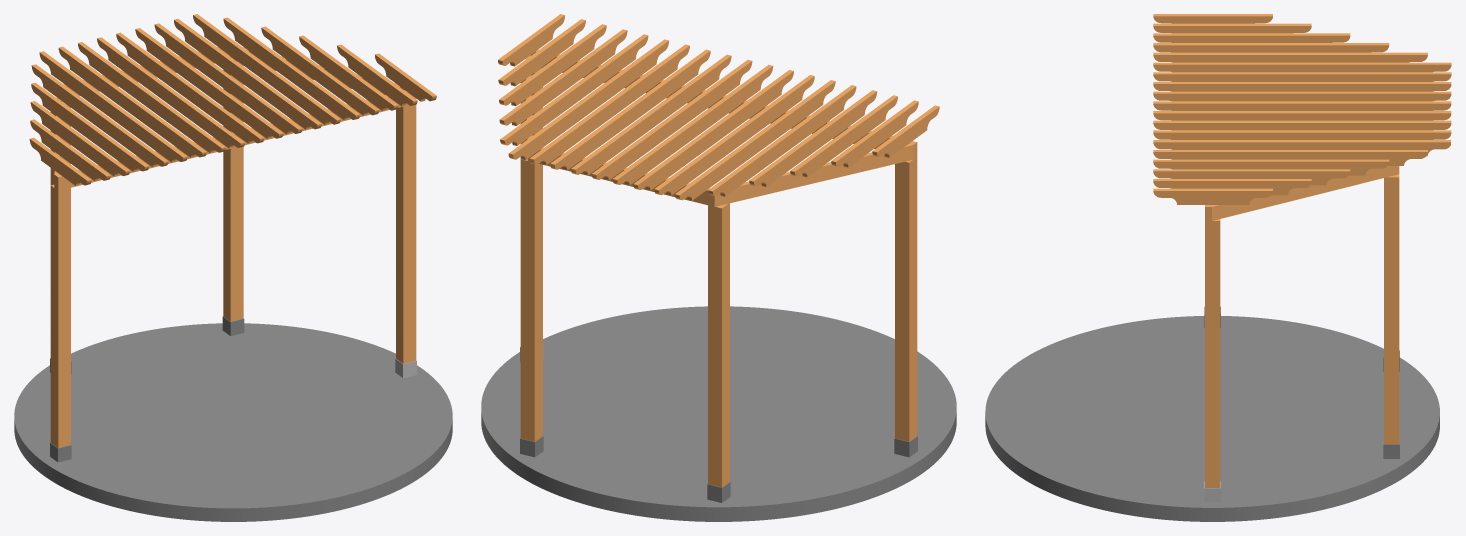
Rendered from Пергола.obj.
3 renders of one model, left to right at view 1: azimuth 30°, elevation 25°; view 2: azimuth 150°, elevation 25°; view 3: azimuth 270°, elevation 25°, orthographic. The views are drawn at different scales.
Bounding box in the file's own units: 4.4 × 3.46 × 4.51.
